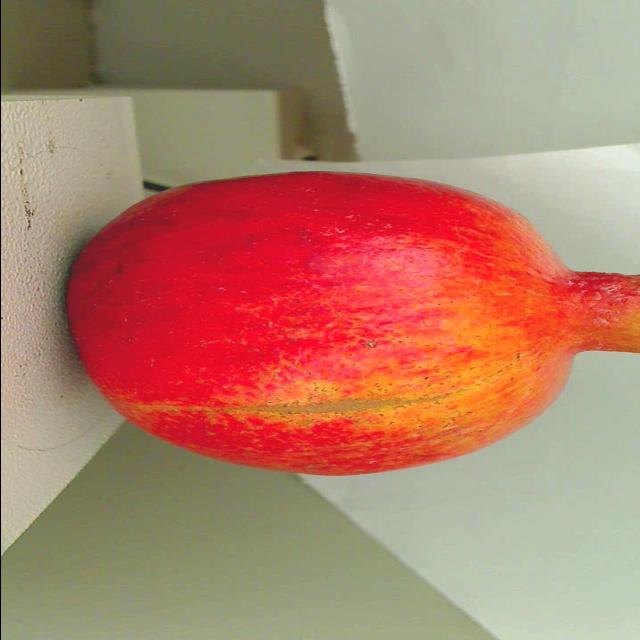pomegranate: (49, 169, 640, 480)
